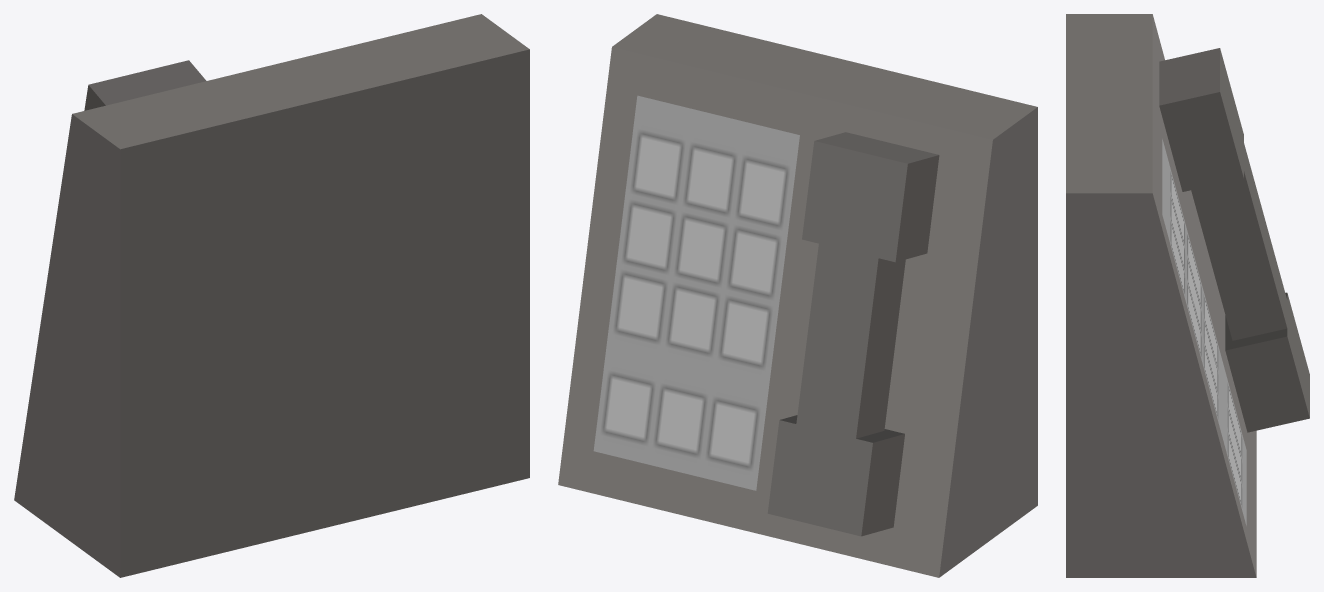
File: DeskPhone.glb
3 views of the same model, side by side, from view 1: azimuth 30°, elevation 25°; view 2: azimuth 150°, elevation 25°; view 3: azimuth 270°, elevation 25° (orthographic). The views are drawn at different scales.
Parts seen in each view (by area): view 1: SO_Deskphone_01; view 2: SO_Deskphone_01; view 3: SO_Deskphone_01.
Part boxes in pixels (<box>): SO_Deskphone_01: <box>14,14,529,577</box>; SO_Deskphone_01: <box>558,14,1037,577</box>; SO_Deskphone_01: <box>1066,14,1309,577</box>.
Size of the model in its own units: 0.4438 by 0.4438 by 0.2551.
Materials: 1 (1 with a texture image).
